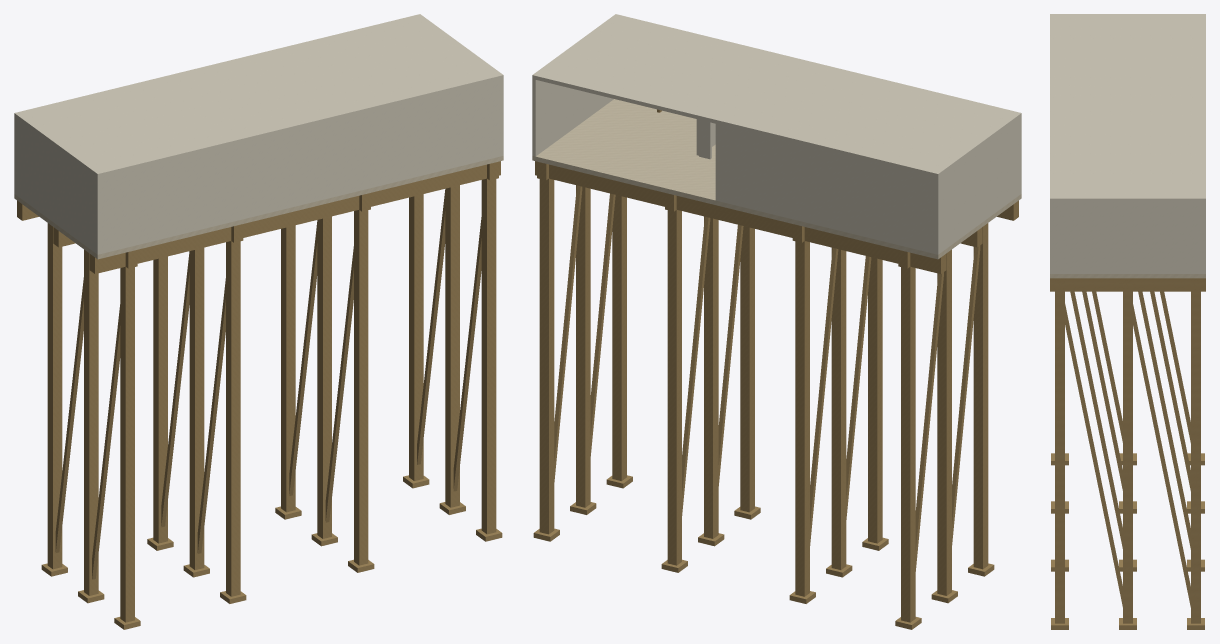
The model's file is D04_PORT_FORWARD_COMMONS_SERVICE_r001.glb.
The picture shows the model from 3 angles, left to right: view 1: azimuth 30°, elevation 25°; view 2: azimuth 150°, elevation 25°; view 3: azimuth 270°, elevation 25°; orthographic projection. The views are drawn at different scales.
Parts seen in each view (by area): view 1: D04CS_Roof, D04CS_NorthWall, D04CS_WestWall, D04CS_Pier_11, D04CS_CrossTransfer_2, D04CS_Pier_5, D04CS_Pier_8, D04CS_Pier_2, D04CS_Pier_0, D04CS_Pier_4, D04CS_Pier_1, D04CS_Pier_7 (+13 smaller); view 2: D04CS_Roof, D04CS_SouthWall_0, D04CS_Floor, D04CS_WestWall, D04CS_Pier_9, D04CS_CrossTransfer_0, D04CS_Pier_3, D04CS_Pier_6, D04CS_Pier_0, D04CS_Pier_2, D04CS_Pier_4, D04CS_Pier_1 (+14 smaller); view 3: D04CS_Roof, D04CS_EastWall, D04CS_Pier_9, D04CS_Pier_10, D04CS_Pier_11, D04CS_LongTransfer_-63.6, D04CS_LowerBrace_-63.6_0, D04CS_LowerBrace_-63.6_1, D04CS_LowerBrace_-70.5_0, D04CS_LowerBrace_-70.5_1, D04CS_LowerBrace_-77.4_0, D04CS_LowerBrace_-77.4_1 (+3 smaller).
Boxes of the visible parts, left/top/right/bottom form: D04CS_Roof: left=14, top=14, right=503, bottom=177; D04CS_NorthWall: left=96, top=79, right=503, bottom=254; D04CS_WestWall: left=14, top=117, right=100, bottom=254; D04CS_Pier_11: left=481, top=178, right=496, bottom=534; D04CS_CrossTransfer_2: left=89, top=161, right=500, bottom=273; D04CS_Pier_5: left=226, top=241, right=240, bottom=596; D04CS_Pier_8: left=354, top=210, right=368, bottom=565; D04CS_Pier_2: left=120, top=267, right=134, bottom=622; D04CS_Pier_0: left=47, top=223, right=62, bottom=569; D04CS_Pier_4: left=189, top=247, right=204, bottom=569; D04CS_Pier_1: left=84, top=249, right=98, bottom=595; D04CS_Pier_7: left=317, top=216, right=331, bottom=538; D04CS_Roof: left=532, top=14, right=1021, bottom=177; D04CS_SouthWall_0: left=715, top=124, right=939, bottom=254; D04CS_Floor: left=532, top=99, right=1021, bottom=259; D04CS_WestWall: left=935, top=117, right=1021, bottom=254; D04CS_Pier_9: left=539, top=178, right=554, bottom=534; D04CS_CrossTransfer_0: left=535, top=161, right=946, bottom=273; D04CS_Pier_3: left=795, top=241, right=809, bottom=596; D04CS_Pier_6: left=667, top=210, right=681, bottom=565; D04CS_Pier_0: left=901, top=267, right=915, bottom=622; D04CS_Pier_2: left=973, top=223, right=988, bottom=569; D04CS_Pier_4: left=831, top=247, right=846, bottom=569; D04CS_Pier_1: left=937, top=249, right=951, bottom=595; D04CS_Roof: left=1050, top=14, right=1205, bottom=202; D04CS_EastWall: left=1050, top=202, right=1205, bottom=273; D04CS_Pier_9: left=1191, top=294, right=1200, bottom=623; D04CS_Pier_10: left=1123, top=294, right=1132, bottom=623; D04CS_Pier_11: left=1055, top=294, right=1064, bottom=623; D04CS_LongTransfer_-63.6: left=1050, top=278, right=1205, bottom=291; D04CS_LowerBrace_-63.6_0: left=1133, top=304, right=1190, bottom=607; D04CS_LowerBrace_-63.6_1: left=1065, top=304, right=1122, bottom=606; D04CS_LowerBrace_-70.5_0: left=1138, top=291, right=1190, bottom=549; D04CS_LowerBrace_-70.5_1: left=1070, top=291, right=1122, bottom=548; D04CS_LowerBrace_-77.4_0: left=1150, top=291, right=1190, bottom=490; D04CS_LowerBrace_-77.4_1: left=1082, top=291, right=1122, bottom=490.
Bounding box in the file's own units: 21.9 × 23.86 × 7.8.
27 materials, 24 textured.
